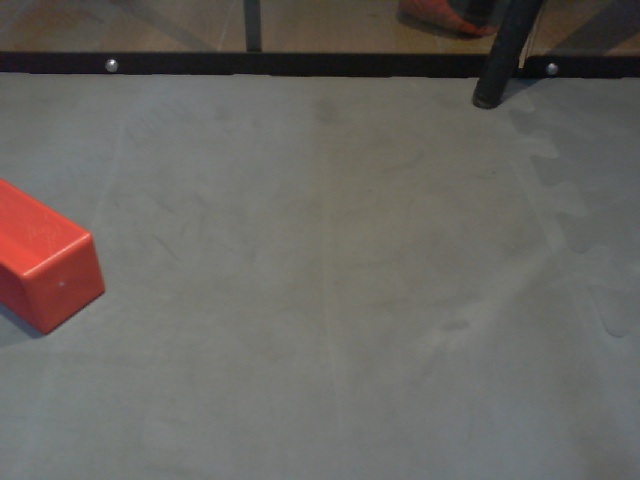RedSample: (1, 174, 108, 337)
